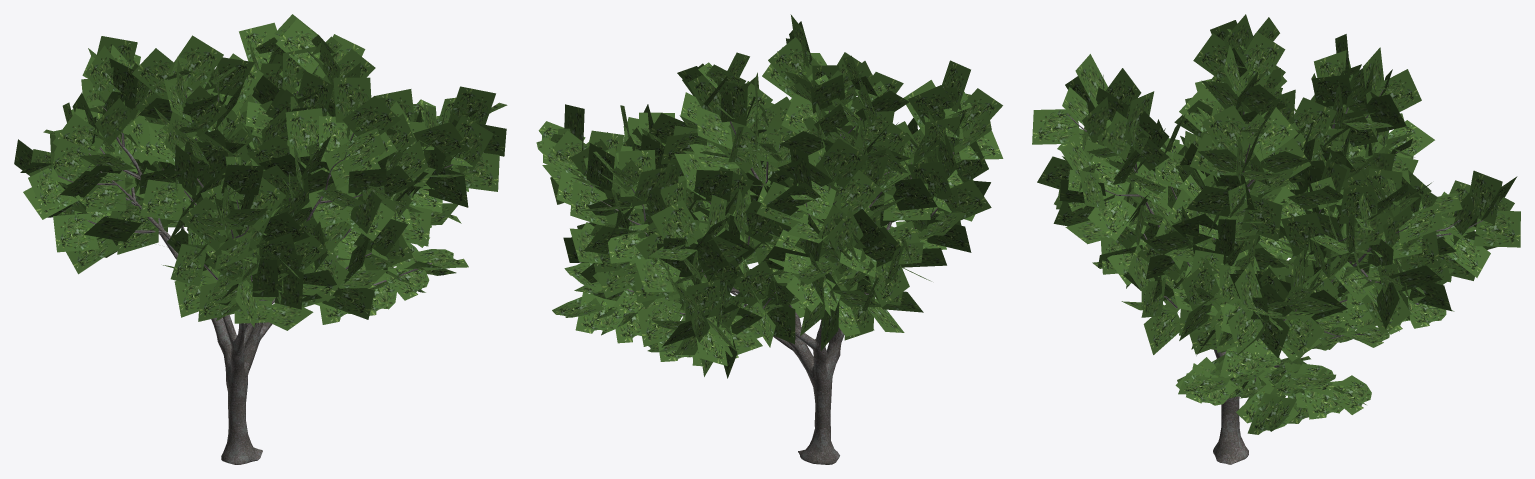
The model's file is sm10_006_largetree01a.fbx.
3 renders of one model, left to right at view 1: azimuth 30°, elevation 25°; view 2: azimuth 150°, elevation 25°; view 3: azimuth 270°, elevation 25°, orthographic. The views are drawn at different scales.
Visible parts, largest first — view 1: LOD_1_Group_2_Sub_1__sm10_006_LargeTree01A_A_Mat, LOD_1_Group_0_Sub_1__sm10_006_LargeTree01A_B_Mat, LOD_1_Group_1_Sub_1__sm10_006_LargeTree01A_B_Mat; view 2: LOD_1_Group_2_Sub_1__sm10_006_LargeTree01A_A_Mat, LOD_1_Group_0_Sub_1__sm10_006_LargeTree01A_B_Mat; view 3: LOD_1_Group_2_Sub_1__sm10_006_LargeTree01A_A_Mat, LOD_1_Group_0_Sub_1__sm10_006_LargeTree01A_B_Mat, LOD_1_Group_1_Sub_1__sm10_006_LargeTree01A_B_Mat.
Part boxes in pixels (<box>): LOD_1_Group_2_Sub_1__sm10_006_LargeTree01A_A_Mat: <box>14,14,507,330</box>; LOD_1_Group_0_Sub_1__sm10_006_LargeTree01A_B_Mat: <box>89,89,351,464</box>; LOD_1_Group_1_Sub_1__sm10_006_LargeTree01A_B_Mat: <box>41,87,452,300</box>; LOD_1_Group_2_Sub_1__sm10_006_LargeTree01A_A_Mat: <box>536,14,1003,378</box>; LOD_1_Group_0_Sub_1__sm10_006_LargeTree01A_B_Mat: <box>600,121,954,464</box>; LOD_1_Group_2_Sub_1__sm10_006_LargeTree01A_A_Mat: <box>1032,14,1520,434</box>; LOD_1_Group_0_Sub_1__sm10_006_LargeTree01A_B_Mat: <box>1067,107,1460,464</box>; LOD_1_Group_1_Sub_1__sm10_006_LargeTree01A_B_Mat: <box>1105,67,1482,381</box>.
Size of the model in its own units: 13.71 by 12.67 by 13.28.
